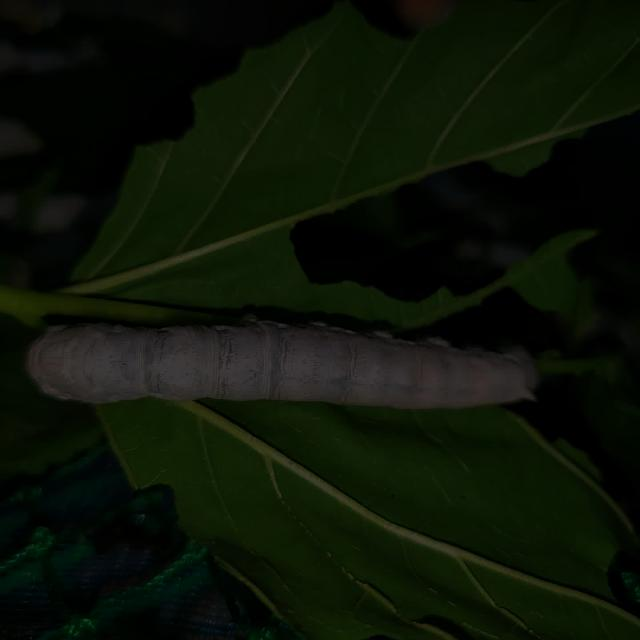Healthy: (16, 301, 552, 423)
